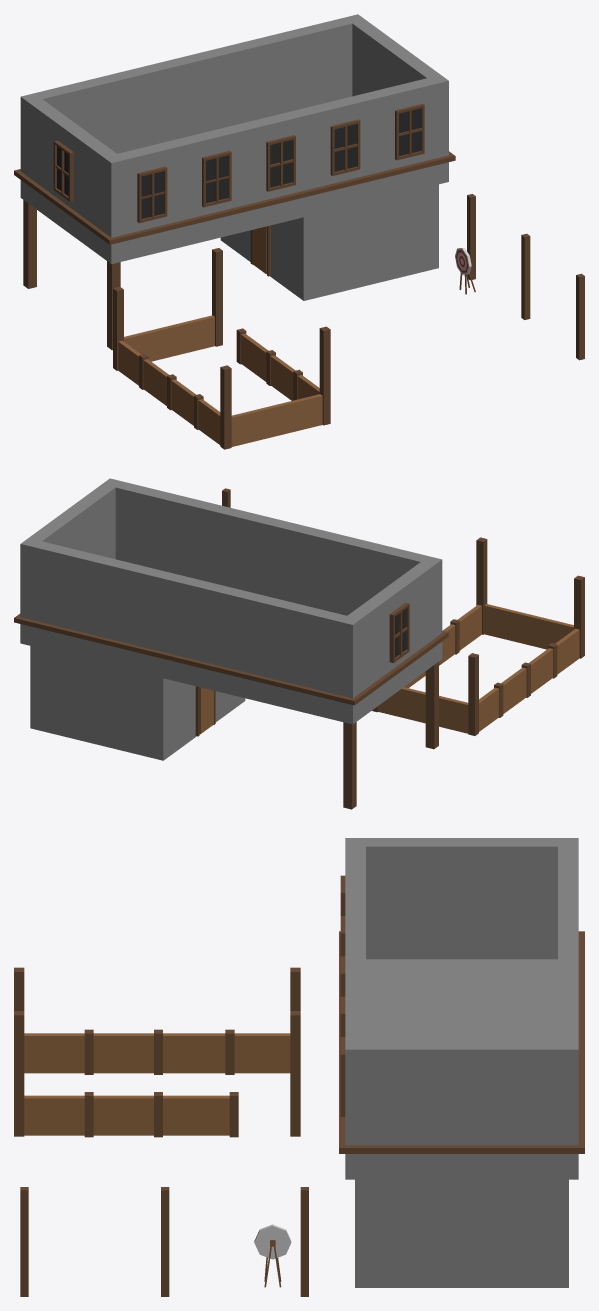
The model's file is ArcheryRange_build_mat.fbx.
3 views of the same model, one above another, from view 1: azimuth 30°, elevation 25°; view 2: azimuth 150°, elevation 25°; view 3: azimuth 270°, elevation 25° (orthographic). The views are drawn at different scales.
Visible parts, largest first — view 1: ArcheryRange_build_mat; view 2: ArcheryRange_build_mat; view 3: ArcheryRange_build_mat.
Boxes of the visible parts, <box> form: ArcheryRange_build_mat: <box>14,14,584,449</box>; ArcheryRange_build_mat: <box>14,478,584,809</box>; ArcheryRange_build_mat: <box>14,838,584,1296</box>.
Size of the model in its own units: 672 by 334 by 712.
